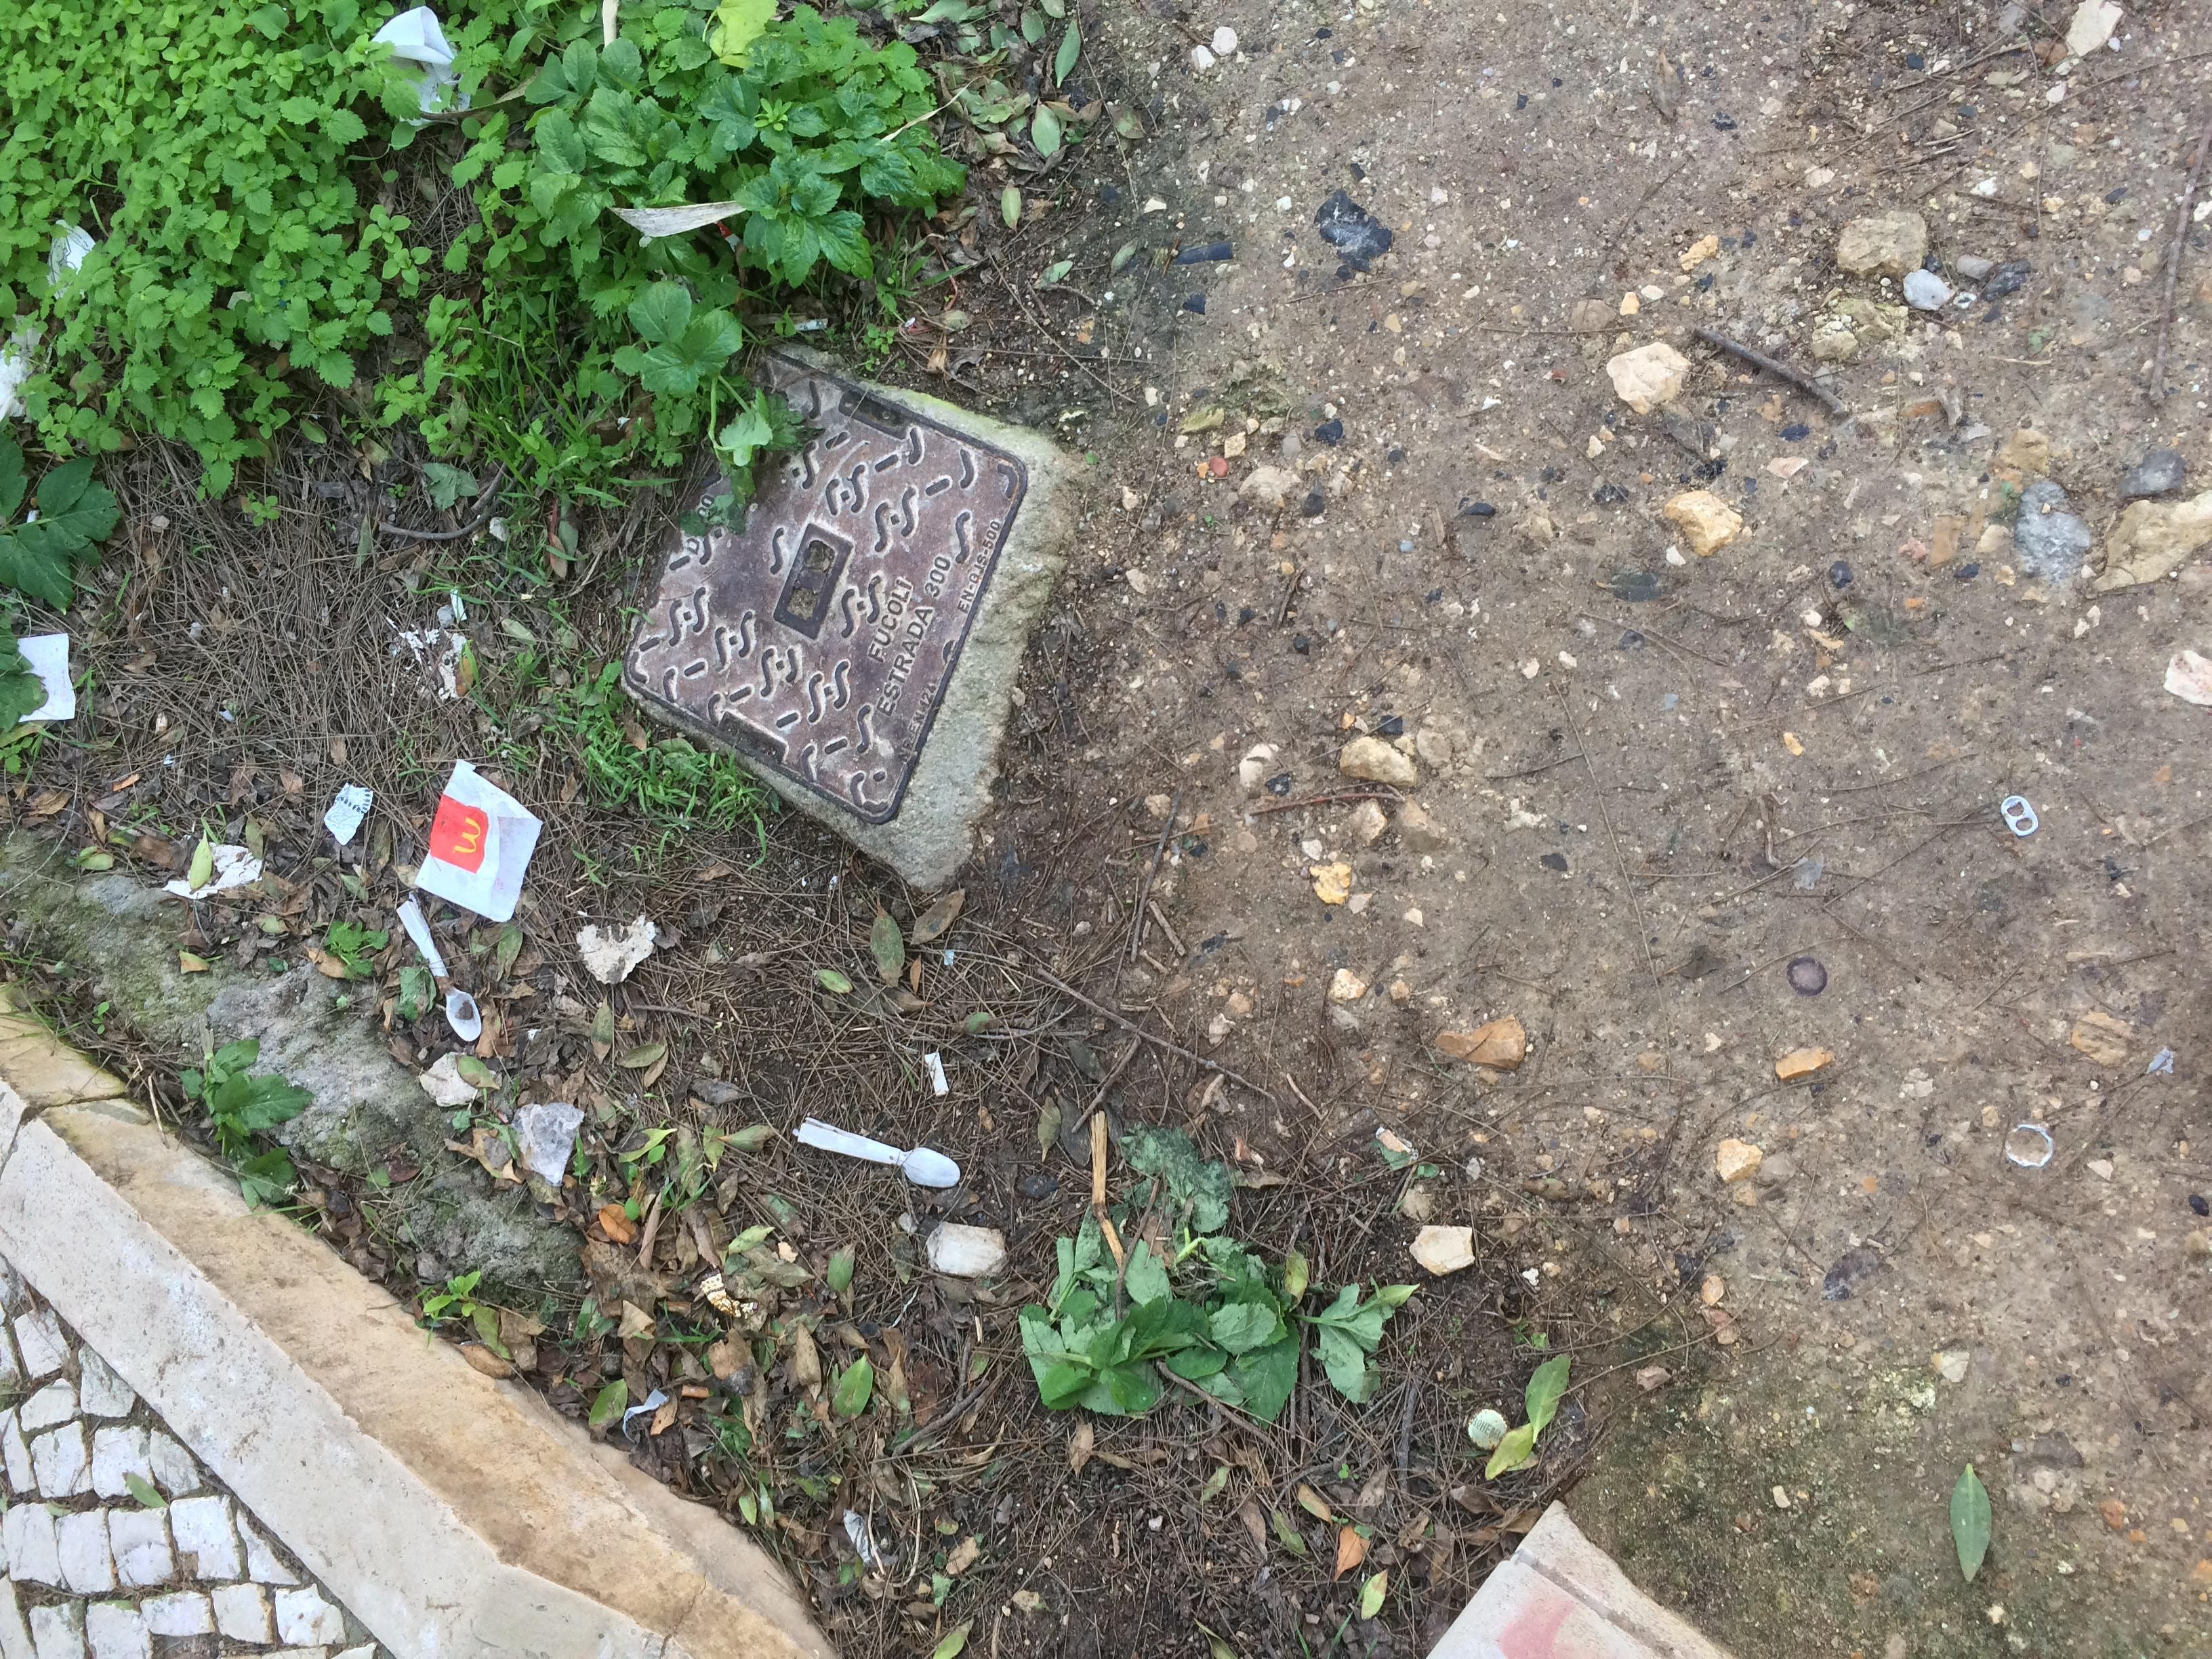Trash: (409, 760, 543, 936), (784, 1124, 967, 1192), (16, 627, 71, 732), (361, 24, 460, 63)
